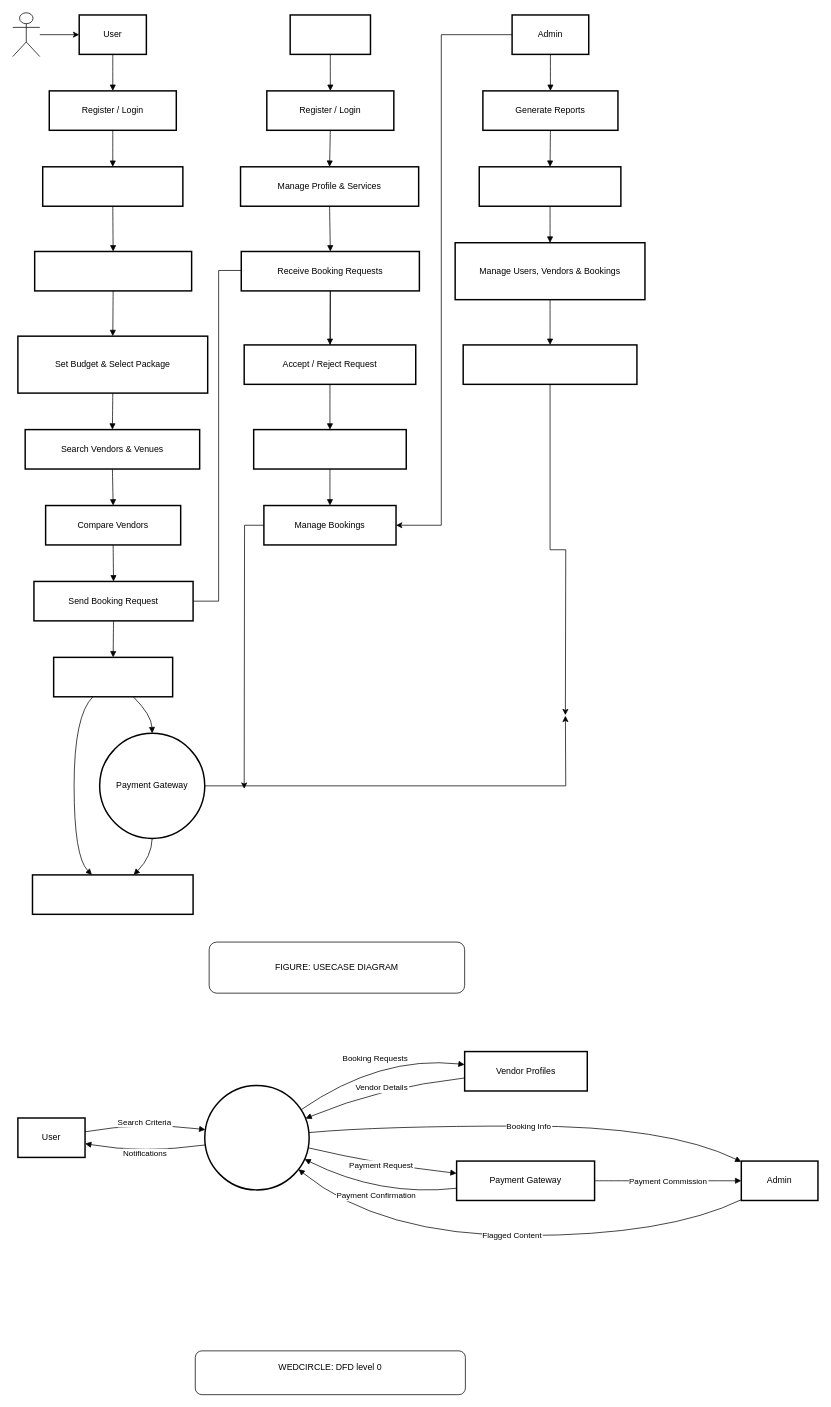
Image size: 831x1407. Some labels were removed from this diagram. The box of each missing label's shape, as (x1, y1, x2, y2) in pixels:
Actor: (12, 12, 40, 57)
Handle Complaints: (478, 166, 621, 207)
Leave Review / Rating: (31, 874, 193, 915)
Make Payment: (53, 656, 173, 697)
Specify Requirements: (34, 250, 192, 291)
Vendor: (289, 14, 371, 55)
Verify / Approve Vendors: (462, 344, 637, 385)
View / Edit Profile: (42, 166, 183, 207)
View Booking Details: (253, 429, 407, 469)
WedCircle System: (204, 1084, 310, 1190)
